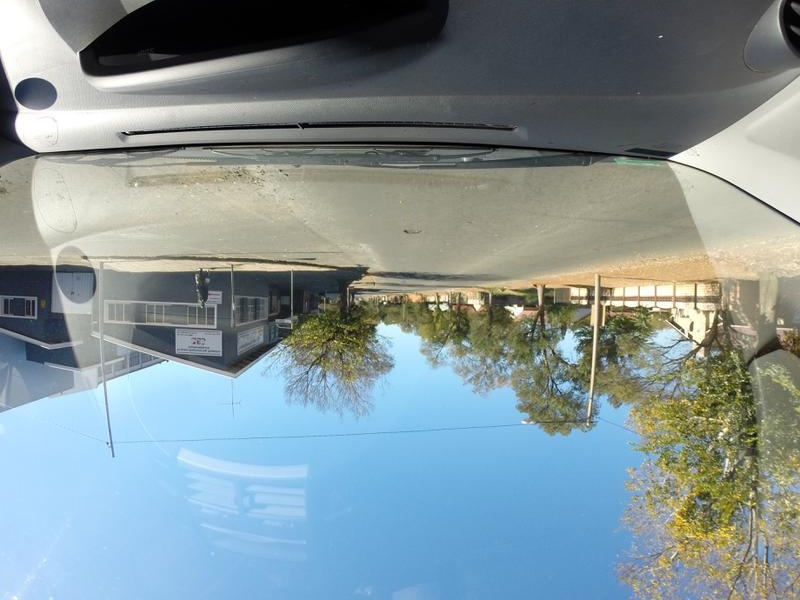pothole: (404, 222, 446, 241)
